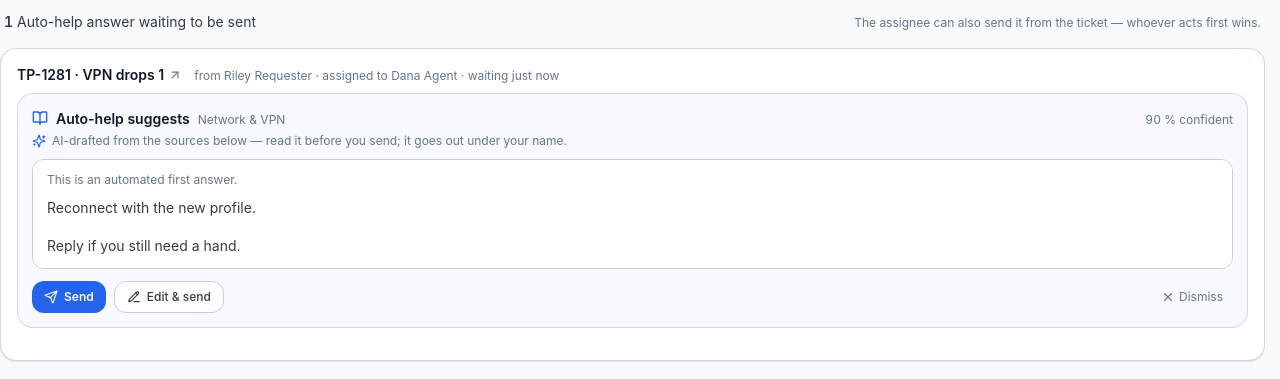
it: Knowledge → Approvals › Send goes to that ticket and the answer leaves the list
Click the button "Send" at (69, 297), box [32,281,106,313]
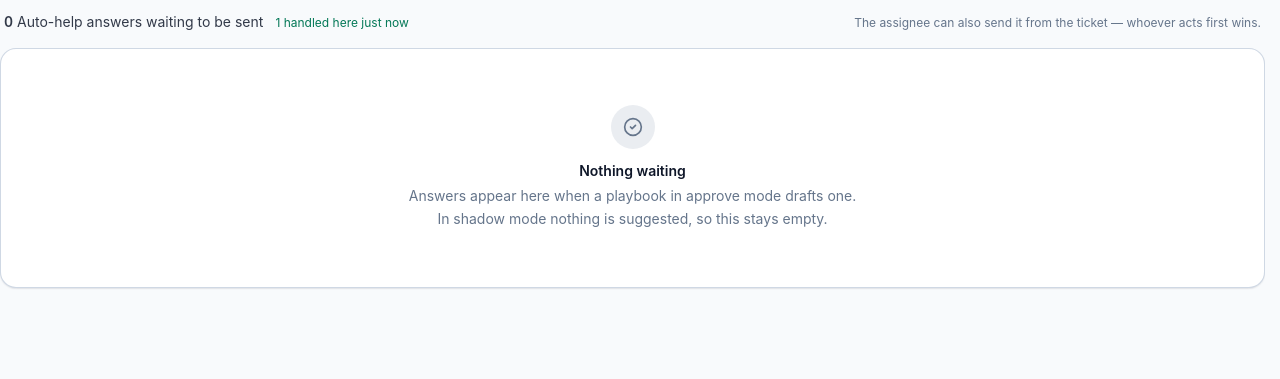
Expected: the element with test id "auto-help-suggestion" is gone
Expected: the message reads "1 handled here just now", [275,15,409,31]
